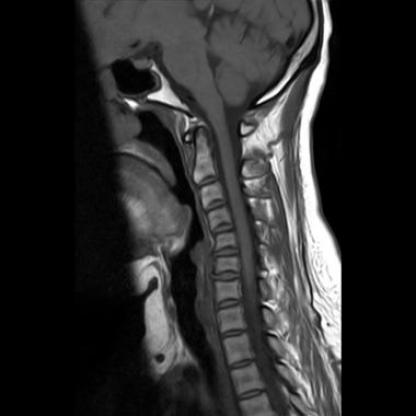Disc Bulgerotation: (211, 268, 244, 284), (213, 244, 242, 259), (209, 222, 238, 235)
